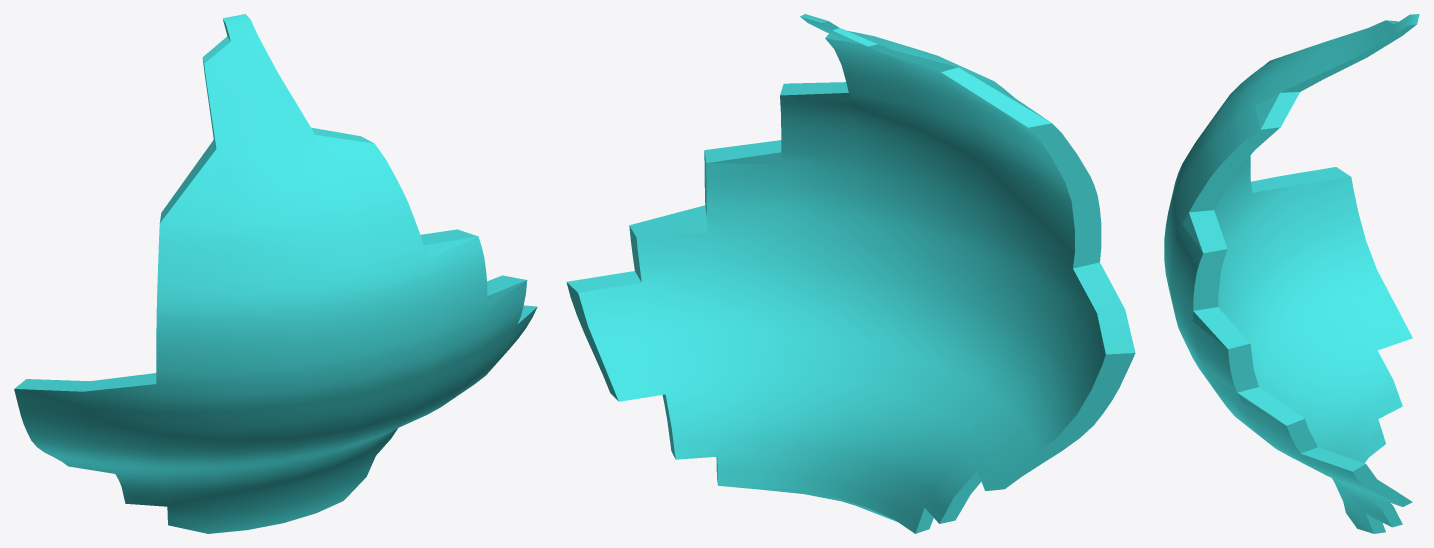
The model's file is VaseBroken4.fbx.
3 views of the same model, side by side, from view 1: azimuth 30°, elevation 25°; view 2: azimuth 150°, elevation 25°; view 3: azimuth 270°, elevation 25° (orthographic). The views are drawn at different scales.
Parts seen in each view (by area): view 1: splinterMiddle4; view 2: splinterMiddle4; view 3: splinterMiddle4.
Part boxes in pixels (x1=…): splinterMiddle4: x1=14, y1=14, x2=537, y2=533; splinterMiddle4: x1=566, y1=14, x2=1135, y2=533; splinterMiddle4: x1=1164, y1=14, x2=1419, y2=533.
Bounding box in the file's own units: 29.87 × 26.23 × 12.85.
